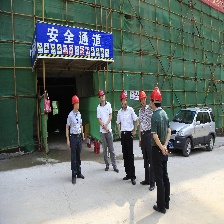helmet: (149, 88, 163, 102), (71, 95, 81, 104), (137, 91, 147, 98), (97, 89, 105, 97), (120, 91, 128, 99)
no-vest: (151, 111, 170, 153), (68, 110, 83, 140), (97, 103, 111, 133), (119, 107, 133, 134), (139, 107, 151, 132)
person: (149, 88, 172, 212), (64, 92, 86, 185), (117, 91, 138, 183), (97, 90, 117, 173)
